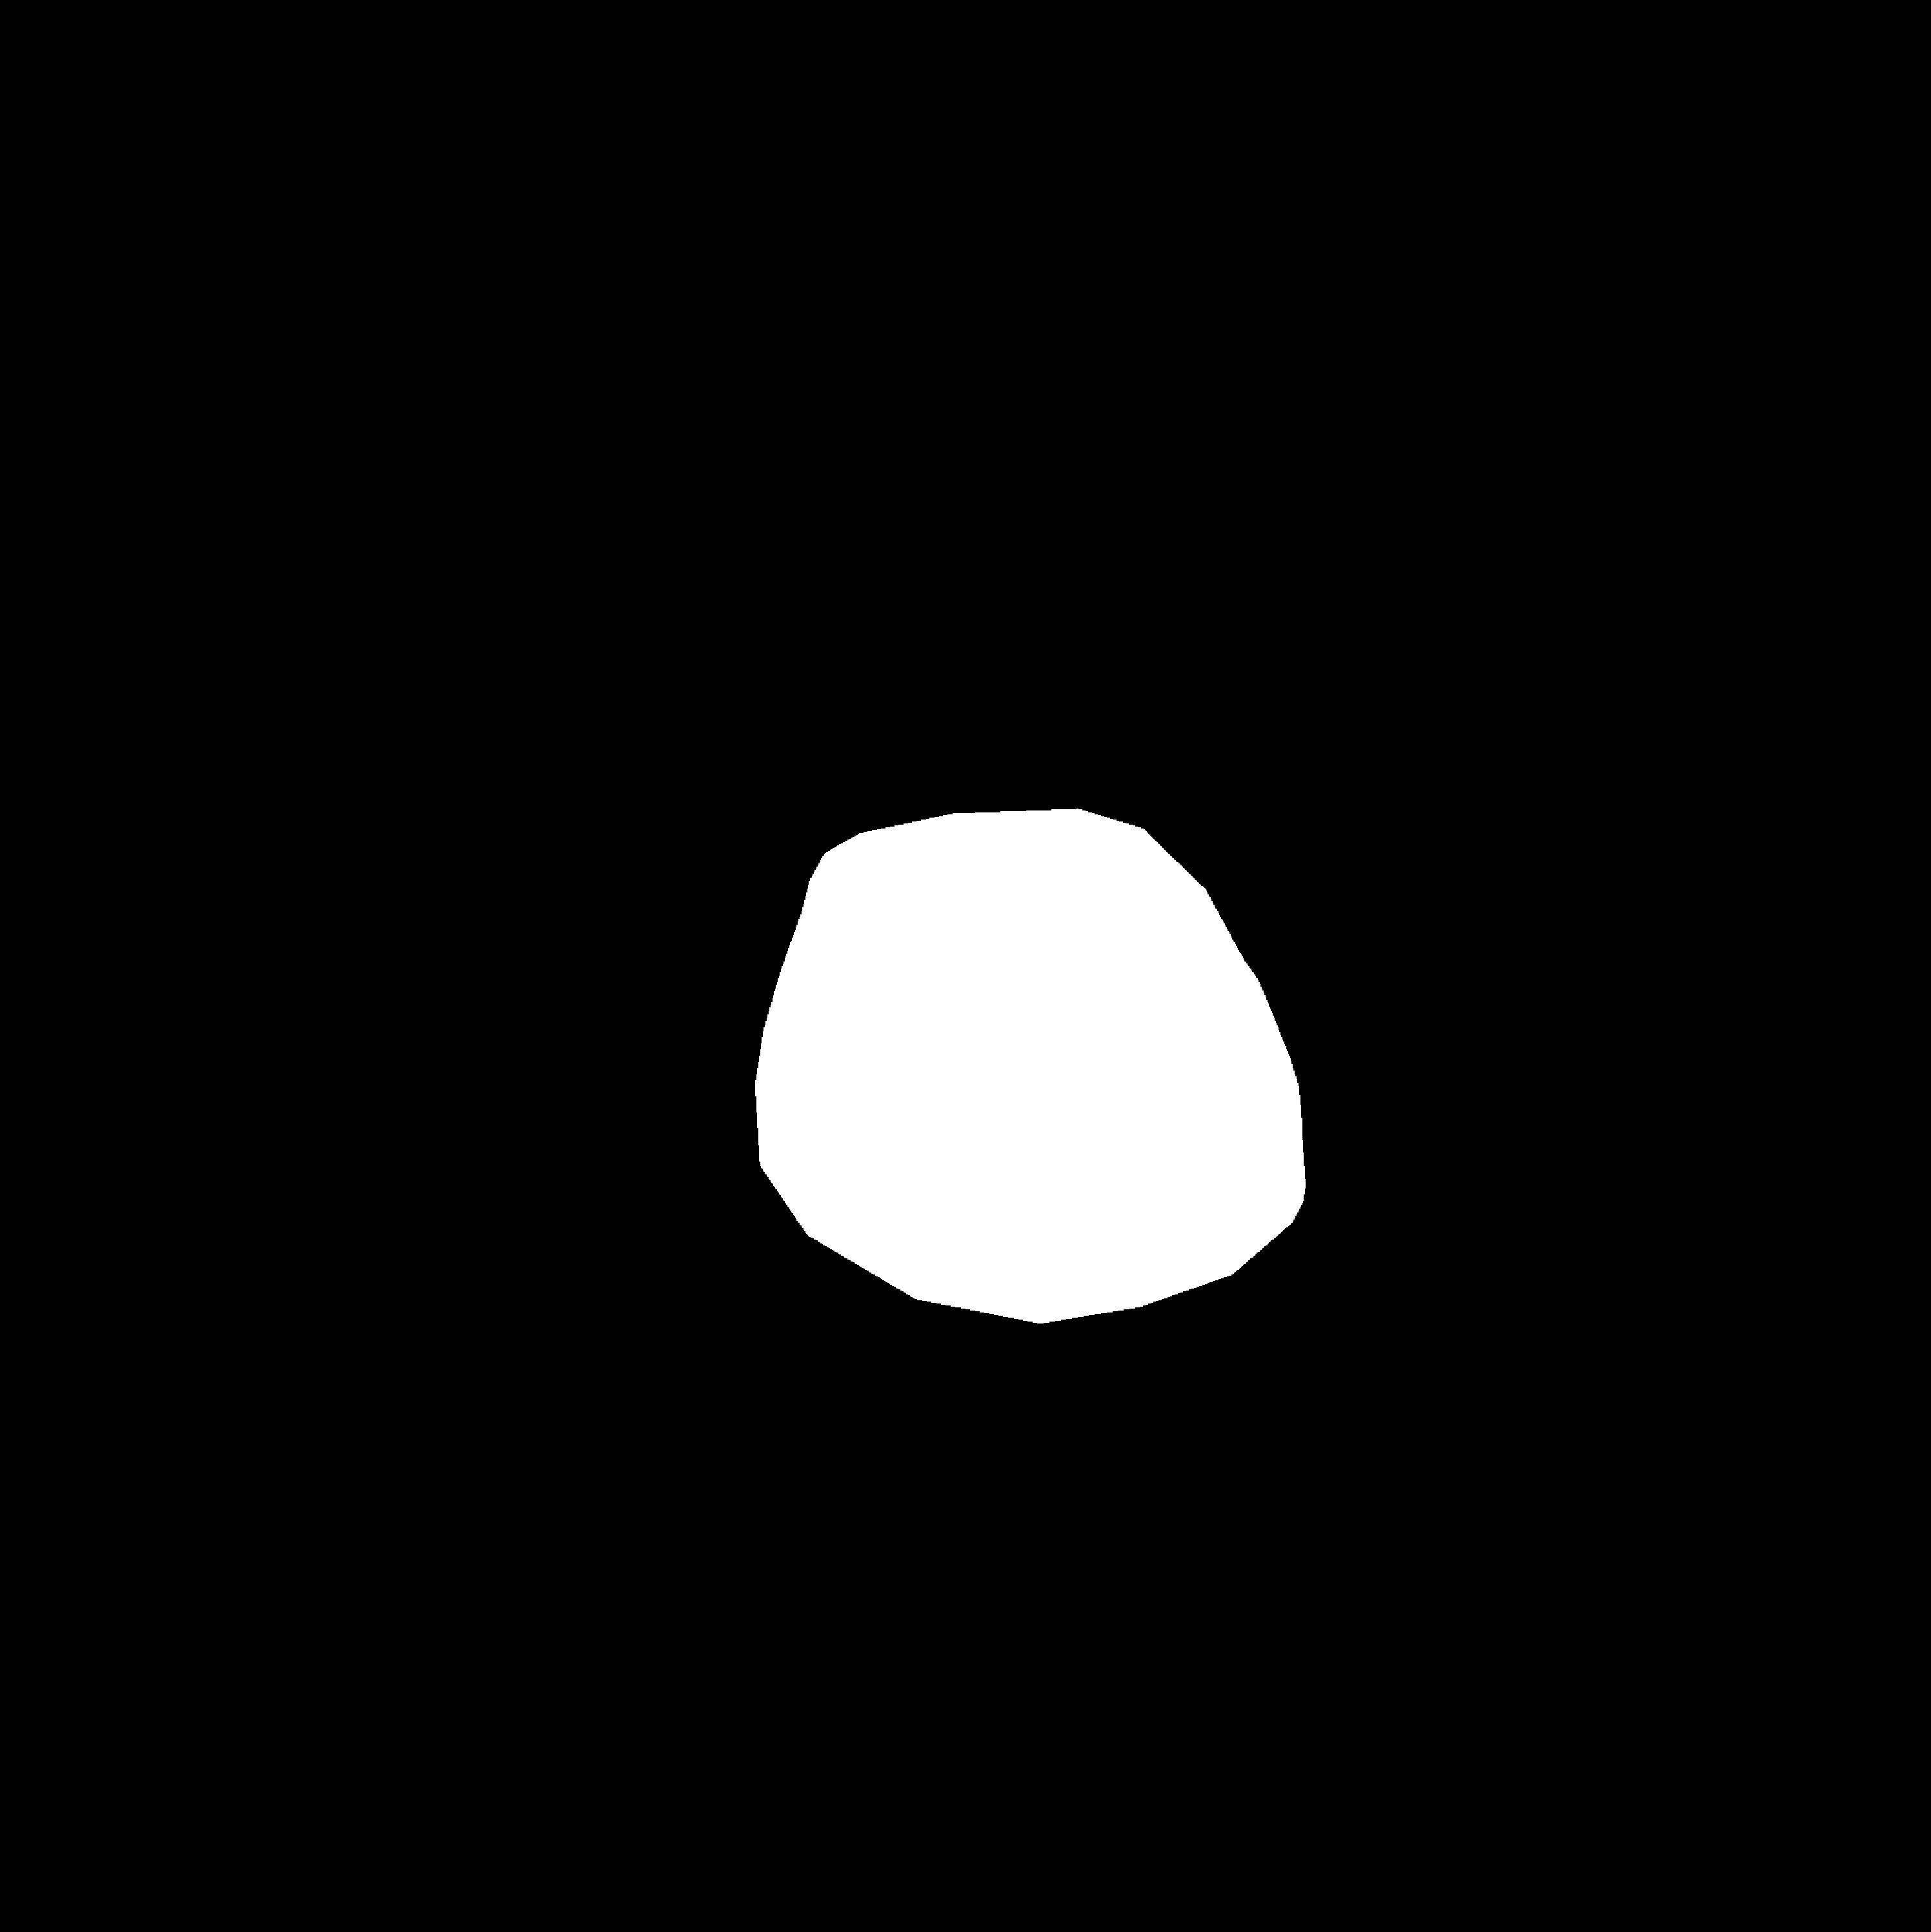heart: (748, 875, 1312, 1273)
left_lung: (262, 300, 881, 1388)
right_lung: (1022, 320, 1581, 1384)
